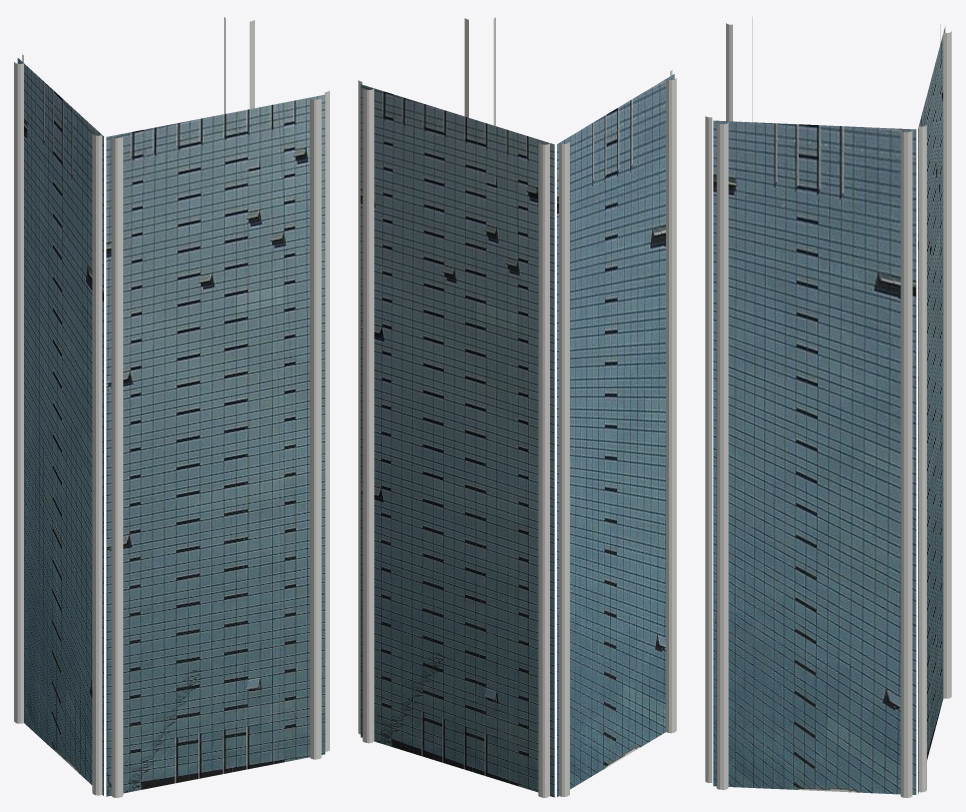
3 renders of one model, left to right at view 1: azimuth 30°, elevation 25°; view 2: azimuth 150°, elevation 25°; view 3: azimuth 270°, elevation 25°, orthographic.
Parts seen in each view (by area): view 1: Surveyed facade, Projecting piers; view 2: Surveyed facade, Projecting piers; view 3: Surveyed facade, Projecting piers.
Part boxes in pixels (<box>): Surveyed facade: <box>17,58,325,796</box>; Projecting piers: <box>14,17,329,797</box>; Surveyed facade: <box>360,74,674,797</box>; Projecting piers: <box>358,17,676,797</box>; Surveyed facade: <box>713,26,945,794</box>; Projecting piers: <box>705,17,951,797</box>.
Size of the model in its own units: 35.04 by 92.01 by 30.87.
Materials: 2 (1 with a texture image).
